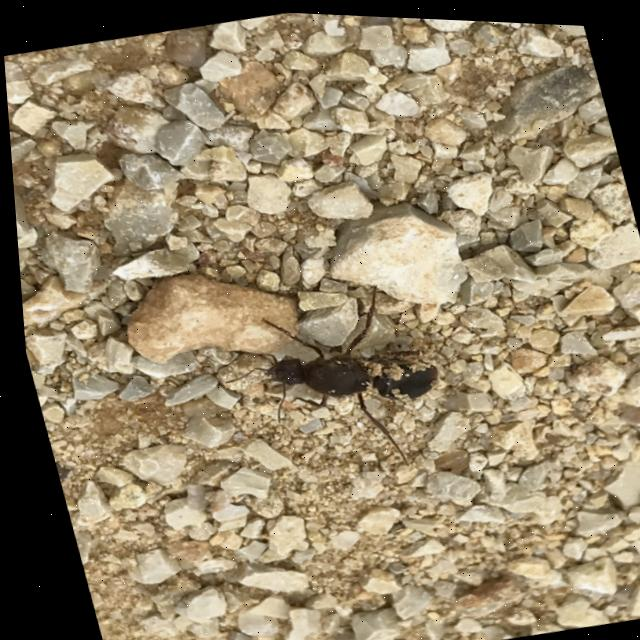Alive-Female-Dealate: (198, 266, 469, 495)
